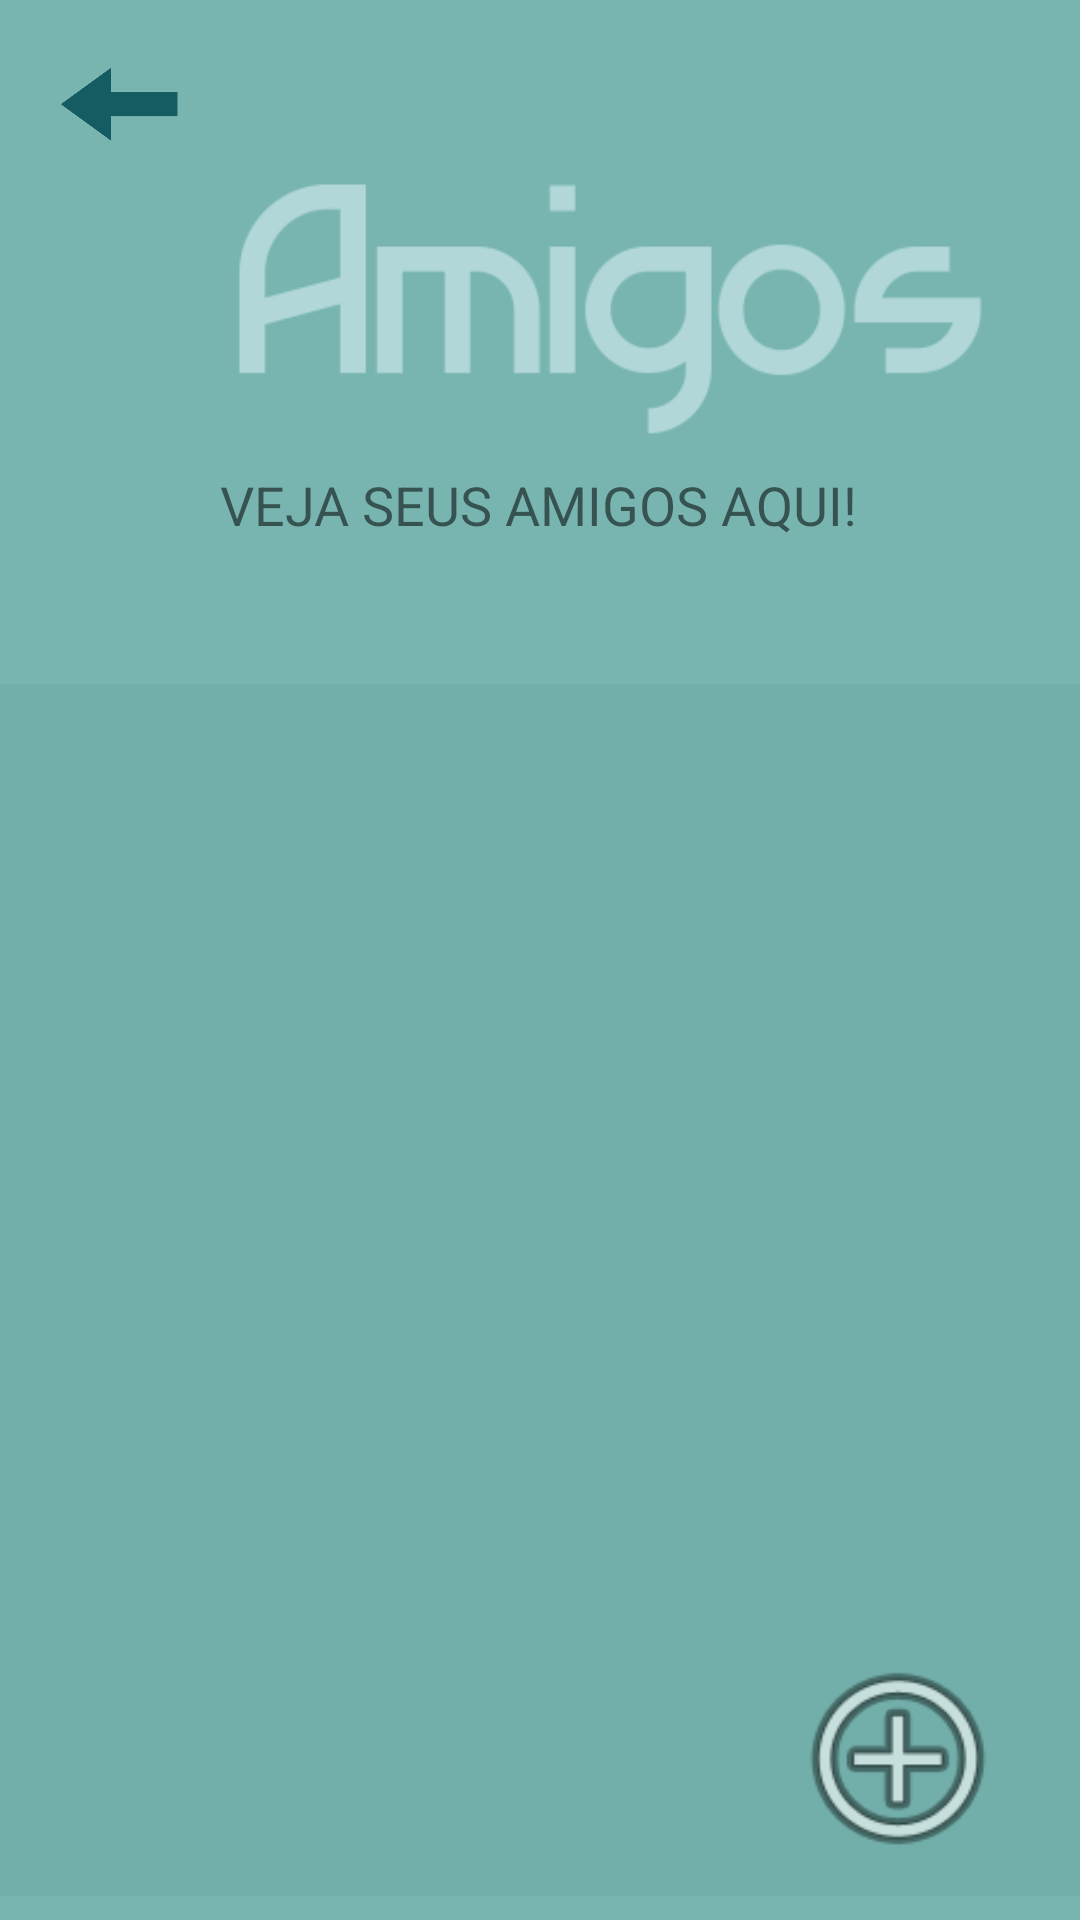

Point at icon controls on the screen. Image size 1080×1920, points as [x,y].
add: [898,1758]
btnvoltar: [119,104]
